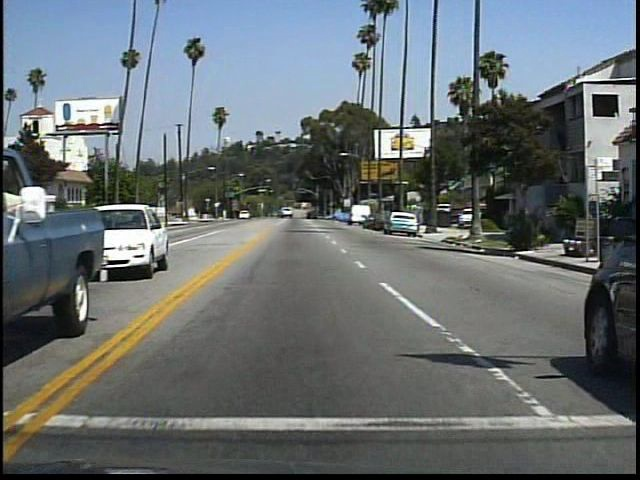person: (516, 198, 540, 251)
